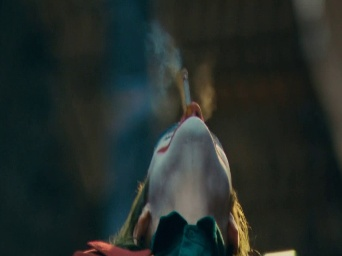smoke: (183, 69, 192, 114)
